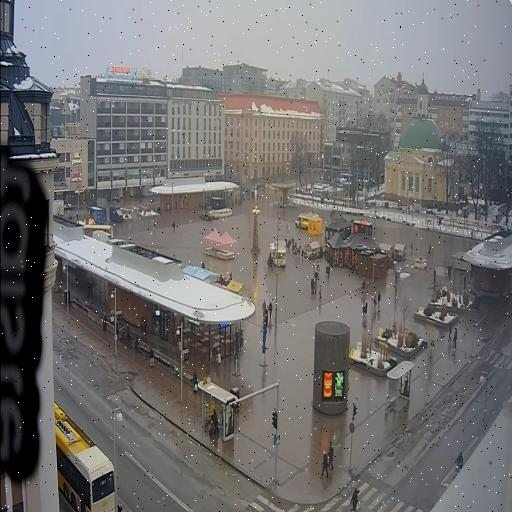Bus: (54, 402, 115, 511)
